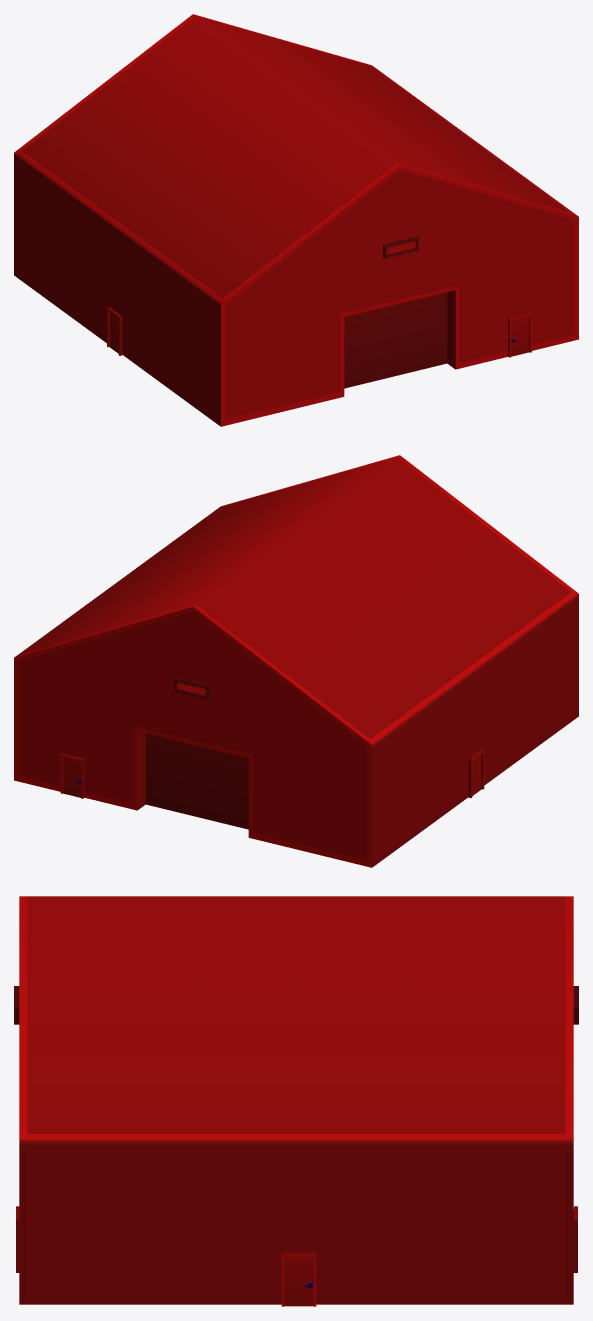
The model's file is buildings-industrial-warehouse_v1.fbx.
3 views of the same model, one above another, from view 1: azimuth 30°, elevation 25°; view 2: azimuth 150°, elevation 25°; view 3: azimuth 270°, elevation 25° (orthographic). The views are drawn at different scales.
Parts seen in each view (by area): view 1: Warehouse_v1_base; view 2: Warehouse_v1_base; view 3: Warehouse_v1_base.
Part boxes in pixels (<box>): Warehouse_v1_base: <box>14,14,578,426</box>; Warehouse_v1_base: <box>14,455,578,867</box>; Warehouse_v1_base: <box>14,896,578,1306</box>.
Bounding box in the file's own units: 23.75 × 13.59 × 23.81.
